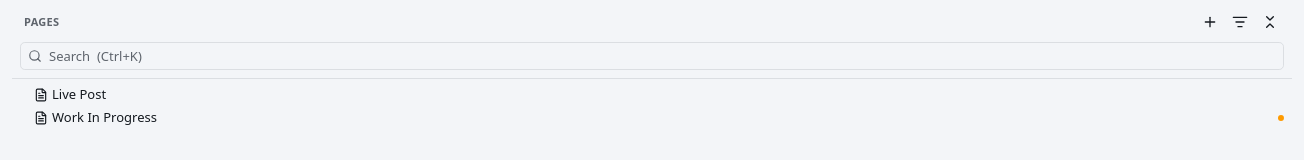
Sidebar › replaces the tree with search results while a query is typed, and brings it back
Type "golang" into the search field named "Search pages". click: (652, 56)
box: [20,42,1284,70]
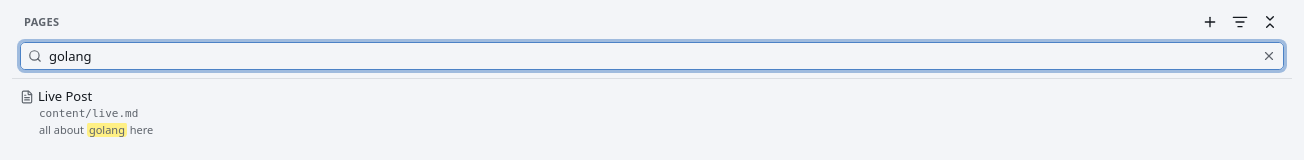
Expected: the text "content/live.md" is shown, [39,107,138,120]
Expected: the text "Work In Progress" is gone
Expected: the text "golang" is shown, [87,122,127,136]
Click the button named "Clear search". click: (1269, 56)
box: [1262,49,1276,63]
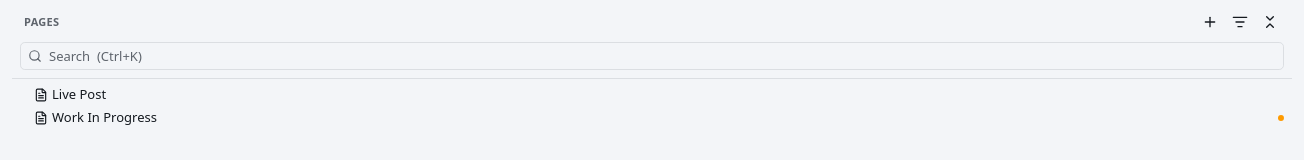
Expected: the text "Work In Progress" is shown, [52,108,157,126]
